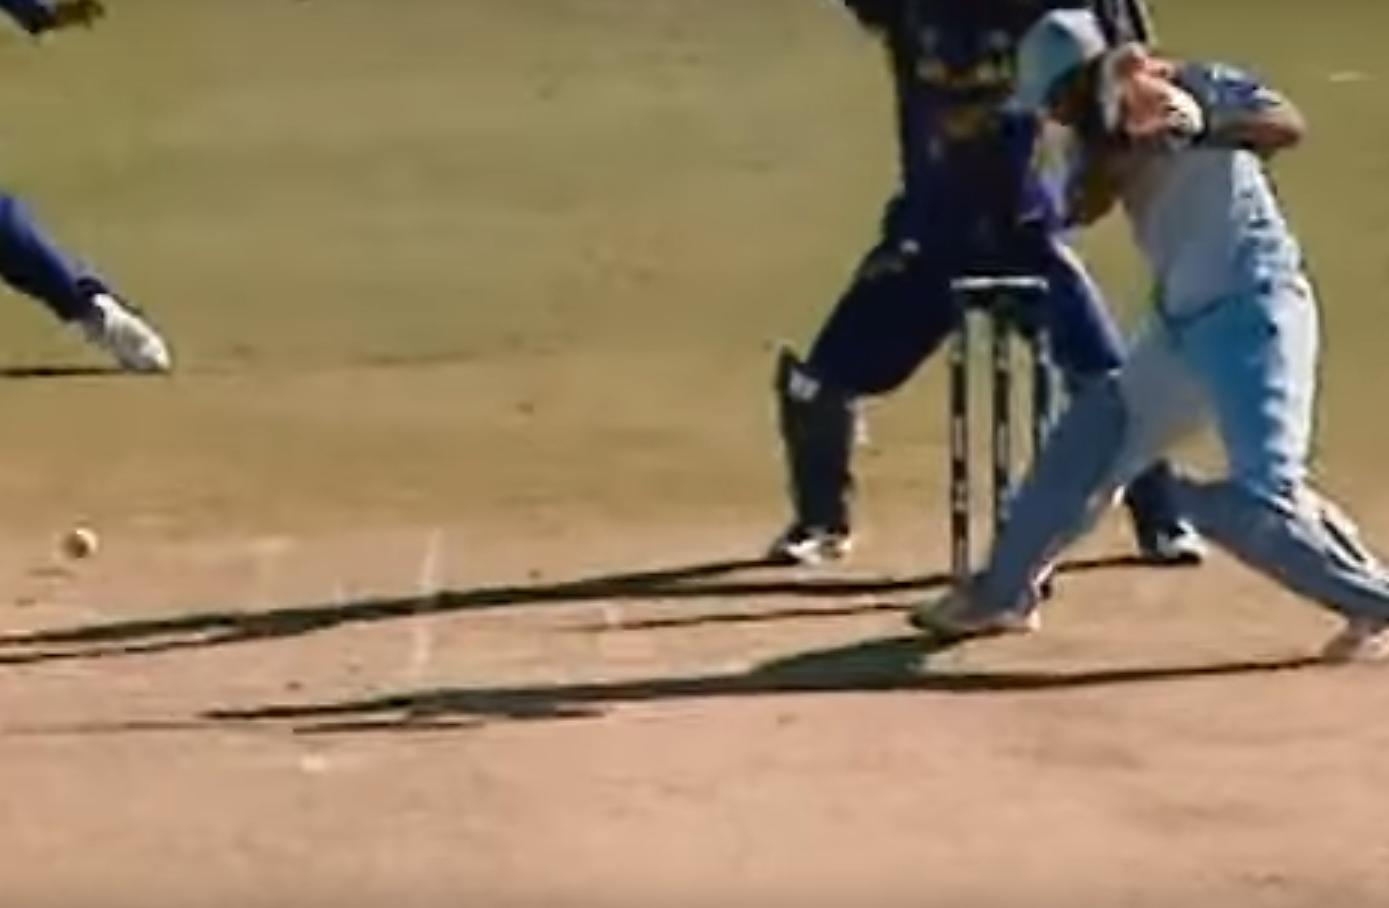Cricket-Ball: (54, 520, 107, 565)
